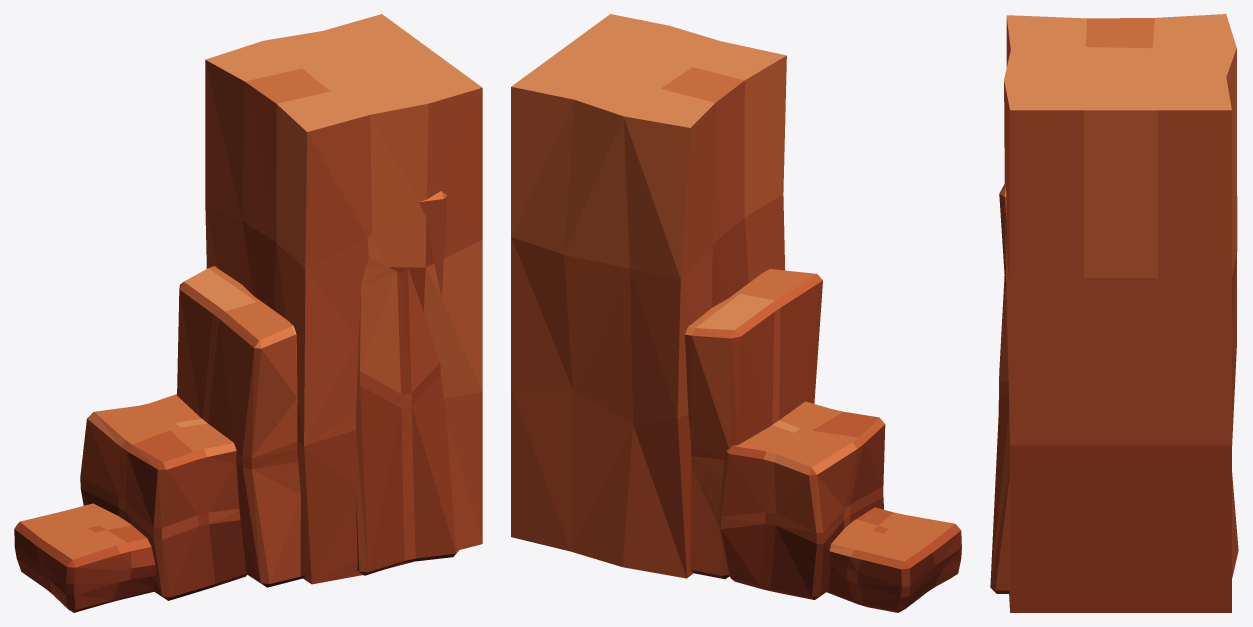
File: SM_CLIFF_END_01.fbx
3 views of the same model, side by side, from view 1: azimuth 30°, elevation 25°; view 2: azimuth 150°, elevation 25°; view 3: azimuth 270°, elevation 25° (orthographic). The views are drawn at different scales.
Visible parts, largest first — view 1: CLIFF_END_01; view 2: CLIFF_END_01; view 3: CLIFF_END_01.
Part boxes in pixels (box(x1,y1,x2,y2)): CLIFF_END_01: box(14, 14, 482, 612); CLIFF_END_01: box(511, 14, 961, 612); CLIFF_END_01: box(990, 14, 1238, 612).
Bounding box in the file's own units: 3.55 × 1.79 × 4.
